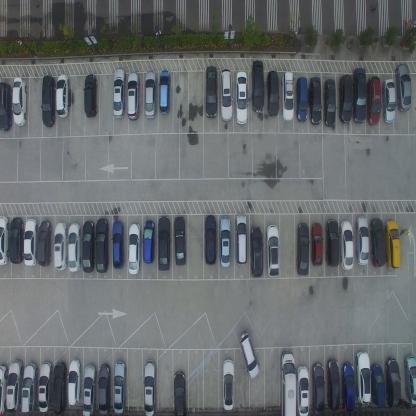car: (238, 330, 260, 381), (280, 350, 296, 415), (355, 350, 372, 406), (384, 356, 402, 408), (6, 358, 23, 413), (51, 360, 67, 415), (94, 216, 109, 274), (21, 361, 37, 414), (385, 219, 401, 271), (250, 59, 265, 114), (265, 223, 280, 278), (353, 66, 367, 124), (218, 68, 233, 122), (82, 362, 97, 416), (370, 217, 386, 267), (395, 63, 411, 113), (325, 360, 340, 413), (41, 74, 56, 127), (156, 216, 170, 272), (235, 70, 249, 126), (143, 359, 157, 415), (12, 75, 27, 127), (250, 225, 264, 280), (97, 361, 111, 416), (367, 75, 382, 126), (340, 218, 354, 272), (311, 362, 325, 416), (36, 219, 52, 266), (81, 220, 95, 273), (9, 216, 24, 265), (218, 216, 232, 268), (355, 215, 369, 267), (126, 70, 140, 122), (112, 67, 126, 119), (38, 360, 52, 412), (128, 221, 141, 276), (67, 223, 81, 274), (54, 220, 68, 271), (341, 361, 355, 412), (113, 360, 126, 414), (234, 214, 248, 264), (308, 75, 322, 125), (338, 74, 352, 124), (205, 65, 218, 118), (23, 218, 37, 267), (204, 214, 217, 266), (281, 70, 294, 122), (0, 81, 13, 133), (296, 364, 309, 416), (222, 359, 235, 411), (326, 218, 340, 266), (68, 358, 82, 406), (297, 221, 309, 276), (370, 363, 385, 407), (323, 78, 336, 128), (266, 70, 280, 116), (382, 77, 396, 123), (56, 74, 70, 120), (84, 72, 97, 120), (174, 216, 186, 267), (404, 354, 416, 405), (144, 71, 156, 121), (295, 76, 308, 122), (158, 69, 171, 115), (173, 370, 186, 416), (142, 219, 155, 264), (311, 221, 323, 268), (112, 220, 123, 269), (0, 215, 10, 267), (0, 364, 8, 416)
